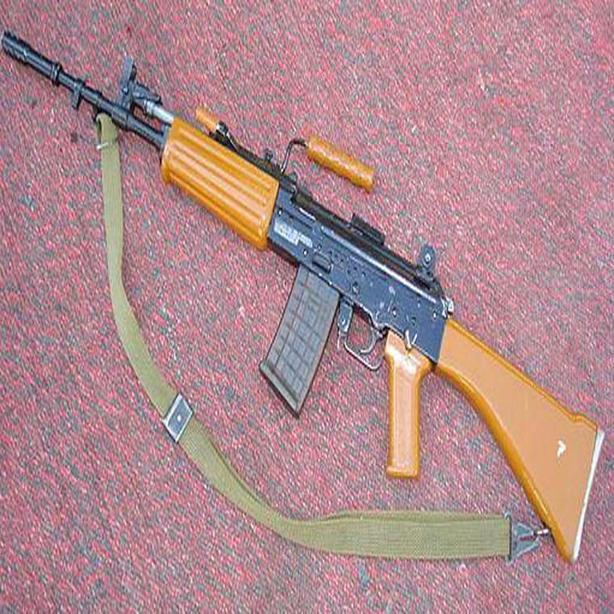Firearm: (3, 18, 608, 563)
